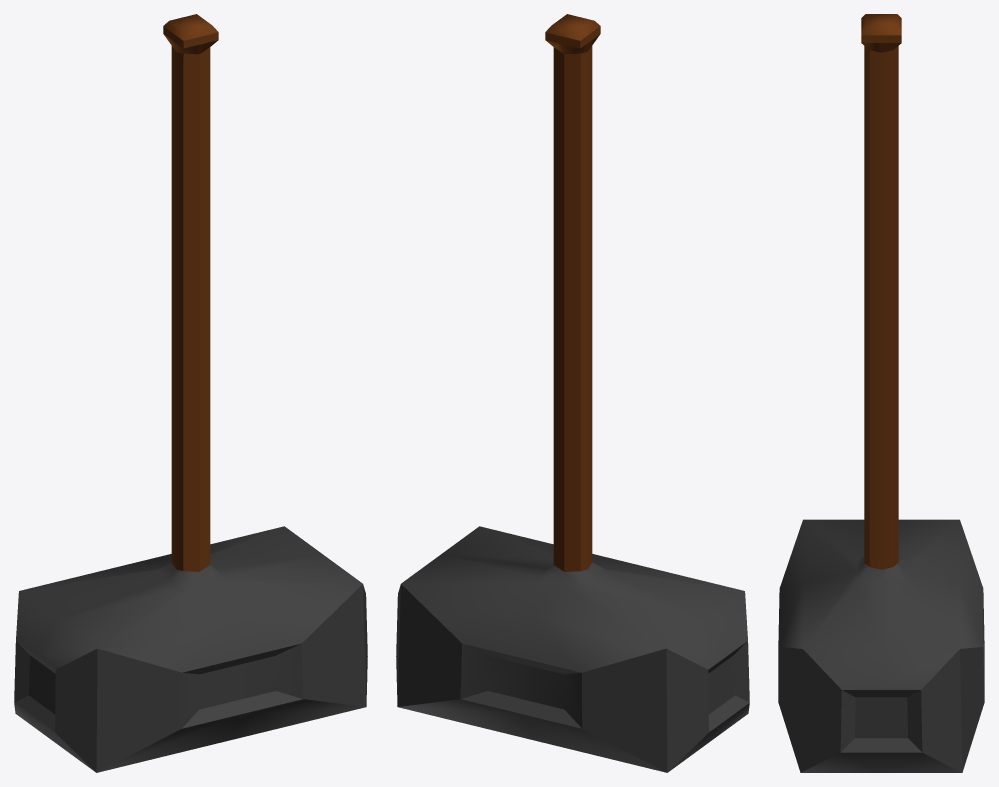
The model's file is Hammer.fbx.
3 views of the same model, side by side, from view 1: azimuth 30°, elevation 25°; view 2: azimuth 150°, elevation 25°; view 3: azimuth 270°, elevation 25° (orthographic).
Visible parts, largest first — view 1: Cube; view 2: Cube; view 3: Cube.
Boxes of the visible parts, box(x1,y1,x2,y2) form: Cube: box(14, 14, 367, 772); Cube: box(396, 14, 749, 772); Cube: box(778, 14, 984, 772).
Size of the model in its own units: 434 by 248 by 926.
